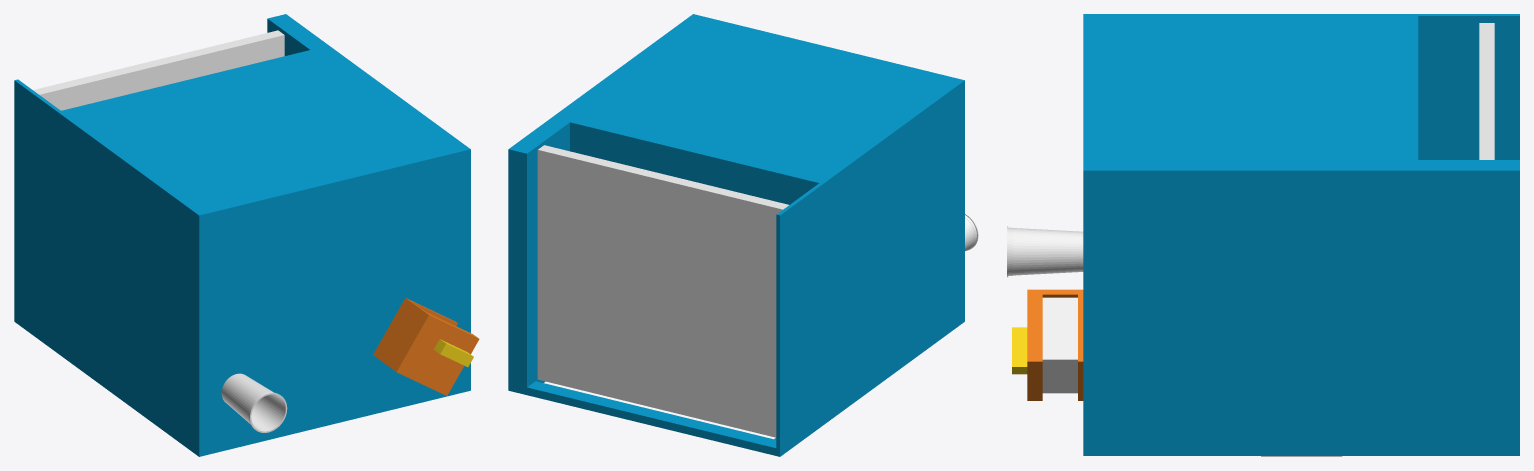
Rendered from tinker.obj.
3 views of the same model, side by side, from view 1: azimuth 30°, elevation 25°; view 2: azimuth 150°, elevation 25°; view 3: azimuth 270°, elevation 25° (orthographic). The views are drawn at different scales.
Parts seen in each view (by area): view 1: group_0_40919, group_0_16448250, group_0_16089887, group_0_16768282; view 2: group_0_40919, group_0_16448250; view 3: group_0_40919, group_0_16448250, group_0_16089887, group_0_16768282.
Boxes of the visible parts, box(x1,y1,x2,y2) form: group_0_40919: box(14, 14, 470, 456); group_0_16448250: box(33, 30, 287, 432); group_0_16089887: box(373, 298, 479, 395); group_0_16768282: box(434, 339, 473, 367); group_0_40919: box(508, 14, 964, 456); group_0_16448250: box(537, 145, 978, 437); group_0_40919: box(1083, 14, 1519, 455); group_0_16448250: box(1007, 23, 1494, 456); group_0_16089887: box(1027, 289, 1083, 400); group_0_16768282: box(1012, 327, 1027, 374).
Size of the model in its own units: 73 by 67 by 101.
